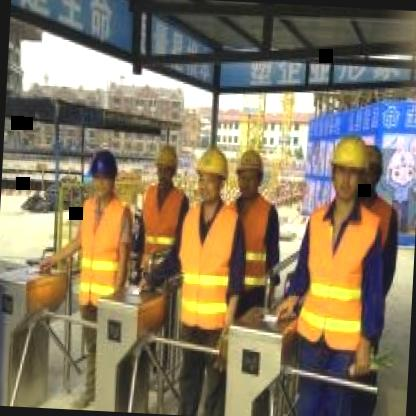helmet: (327, 132, 370, 201), (194, 147, 230, 202), (232, 146, 266, 198), (86, 148, 120, 199), (151, 140, 180, 184)
